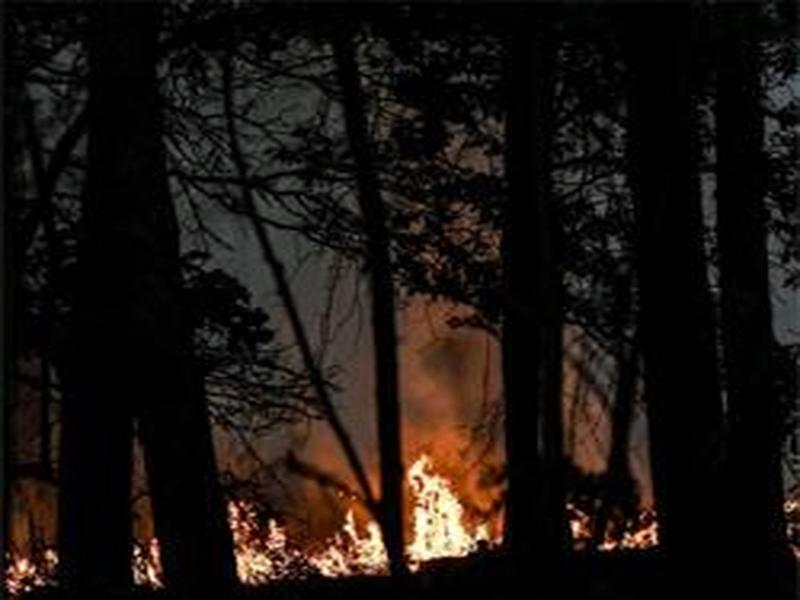FIRE: (28, 434, 534, 600)
